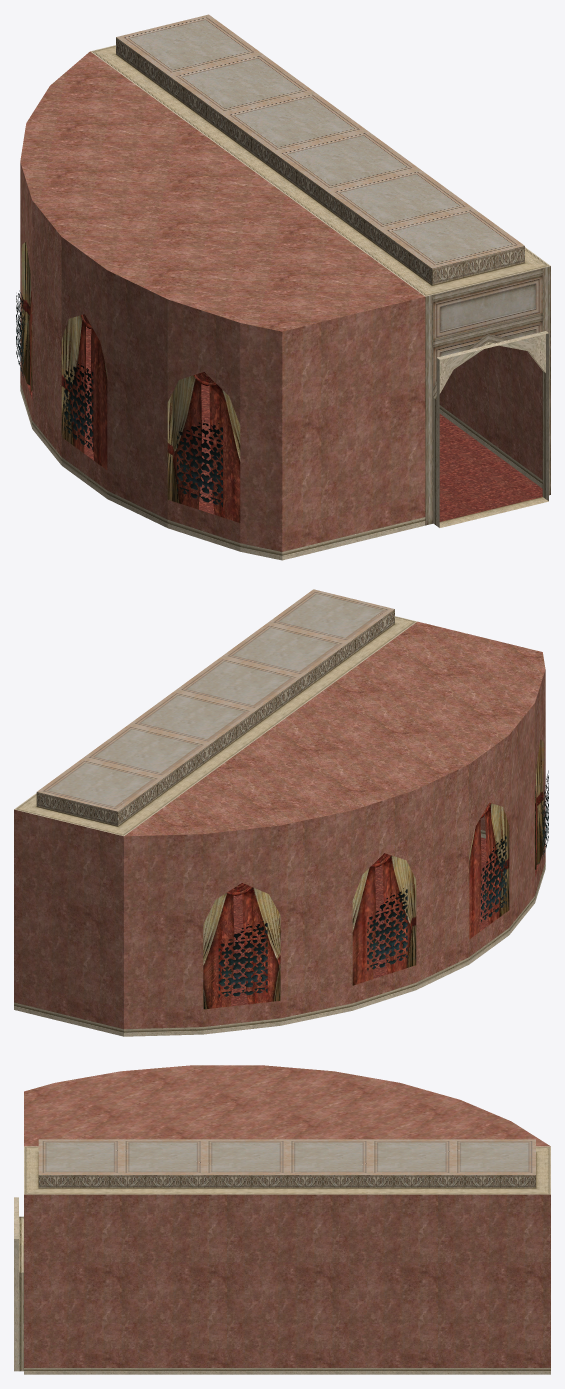
File: ply_nboo_house_sm_s01_fp1_r2_room1_mesh_r2.fbx
3 views of the same model, one above another, from view 1: azimuth 30°, elevation 25°; view 2: azimuth 150°, elevation 25°; view 3: azimuth 270°, elevation 25° (orthographic). The views are drawn at different scales.
Visible parts, largest first — view 1: mesh_node; view 2: mesh_node; view 3: mesh_node.
Boxes of the visible parts, x1=… form: mesh_node: x1=16, y1=14, x2=550, y2=560; mesh_node: x1=14, y1=589, x2=548, y2=1036; mesh_node: x1=14, y1=1065, x2=550, y2=1374.
Bounding box in the file's own units: 6.26 × 4.3 × 10.82.
